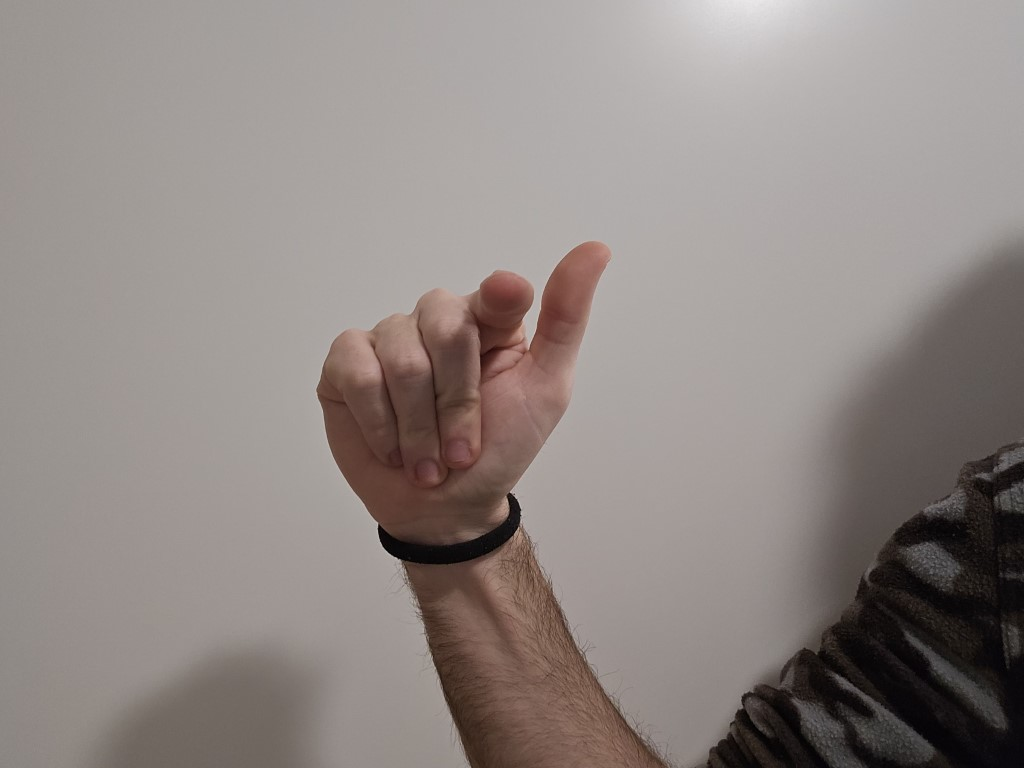t: (267, 211, 629, 527)
